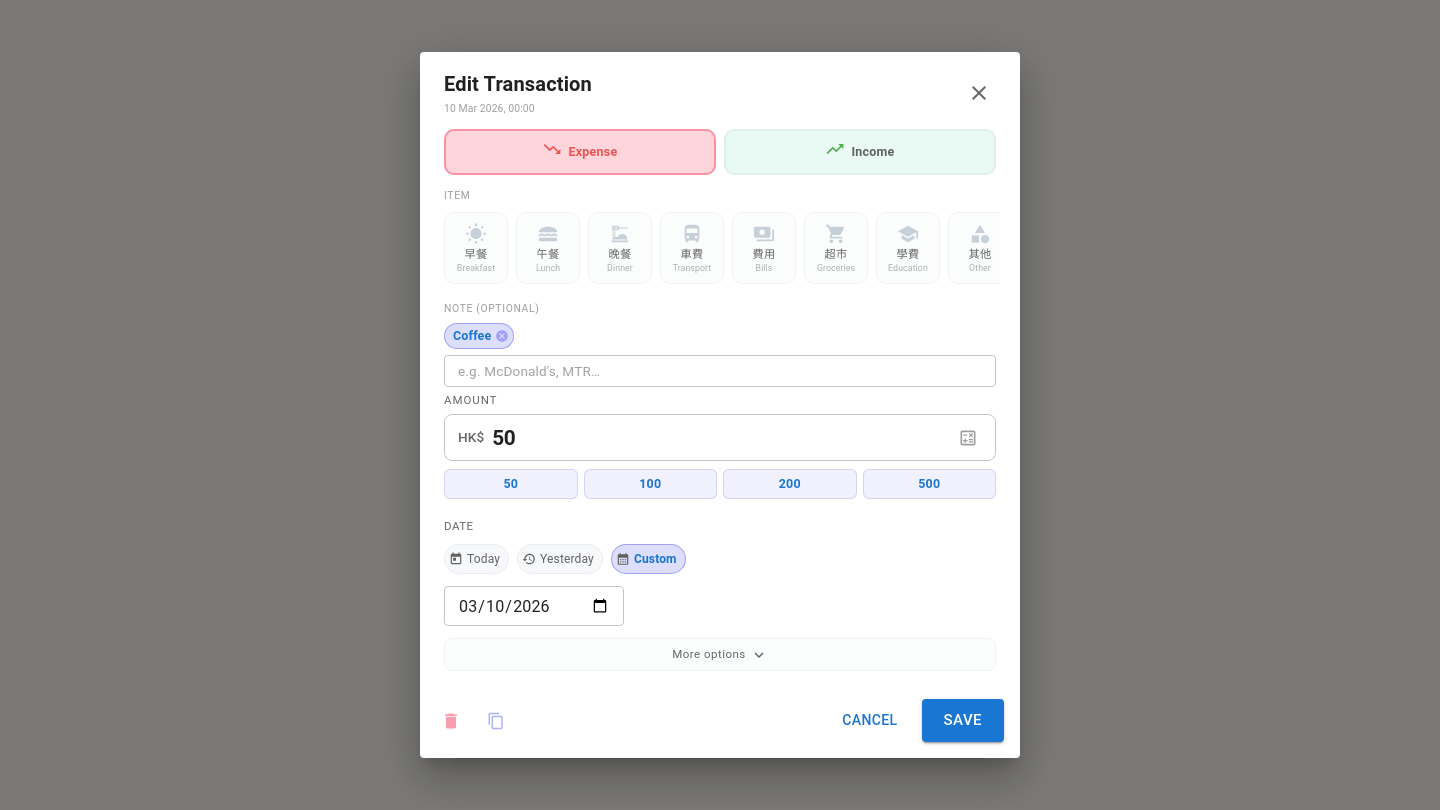
EditExpenseModal › notes field in EditExpenseModal › renders Notes (optional) label after expanding
Click the text "More options".
click(709, 655)  # box [672,645,746,664]
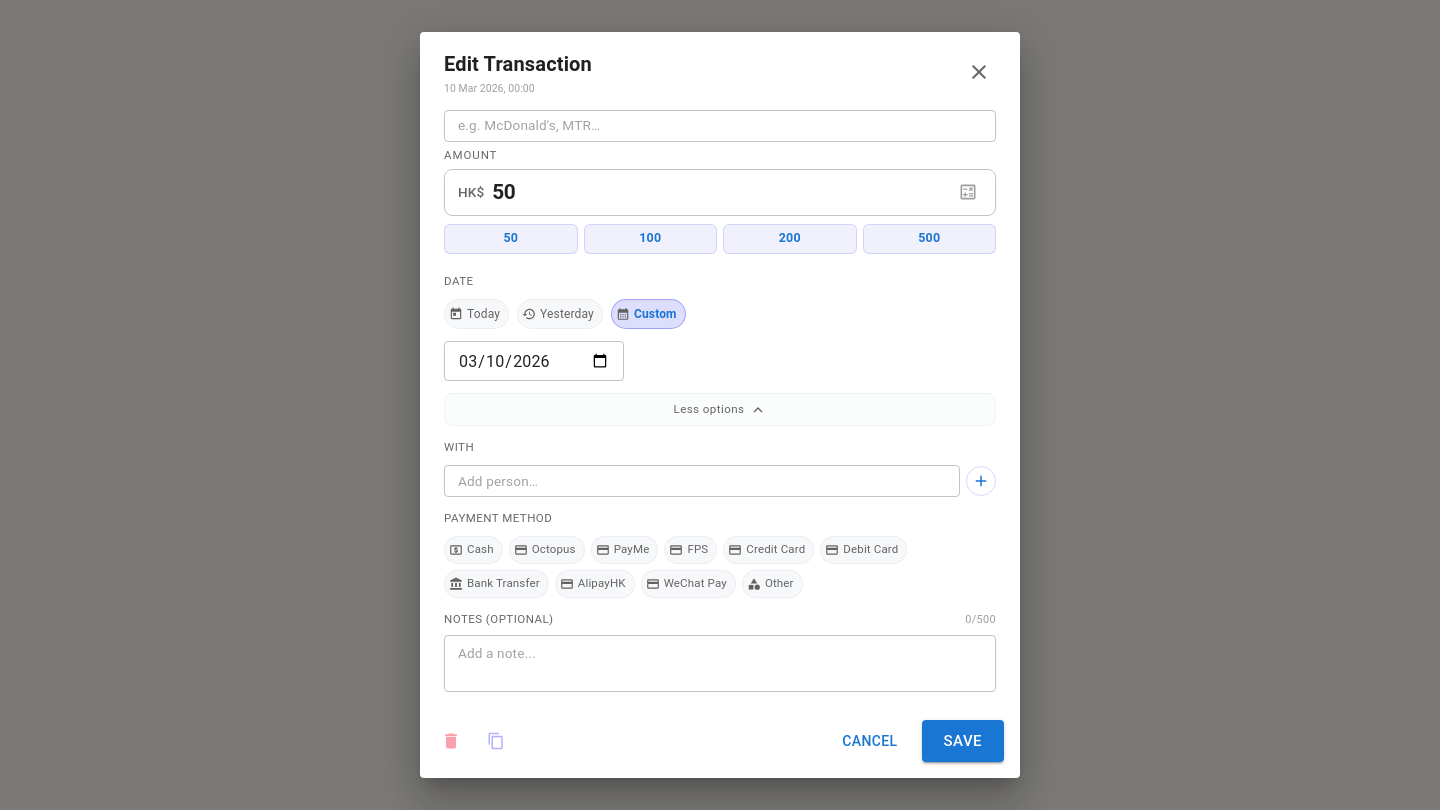
Now the text "Notes (optional)" is shown, box [444,610,554,629]
